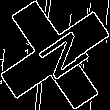N_SW: (23, 24, 87, 86)
